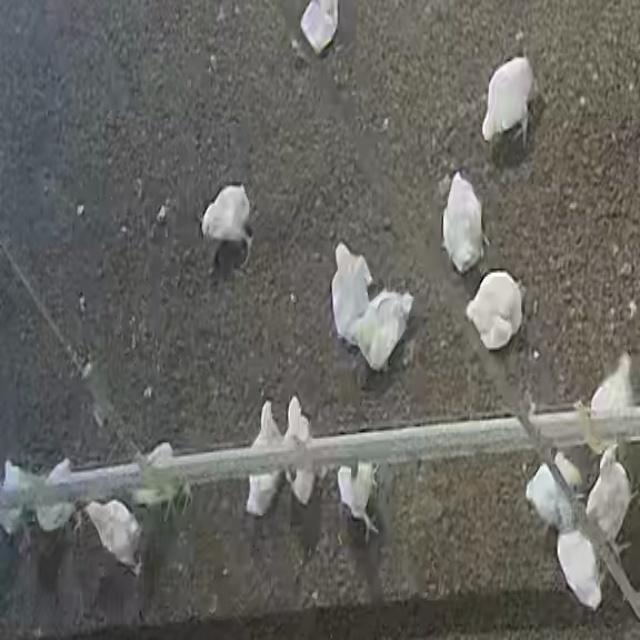chicken: (586, 442, 640, 556), (458, 268, 530, 351), (480, 53, 541, 149), (199, 179, 260, 269), (440, 171, 491, 276), (242, 399, 282, 522), (82, 499, 142, 576), (282, 394, 314, 504), (296, 0, 340, 56)
